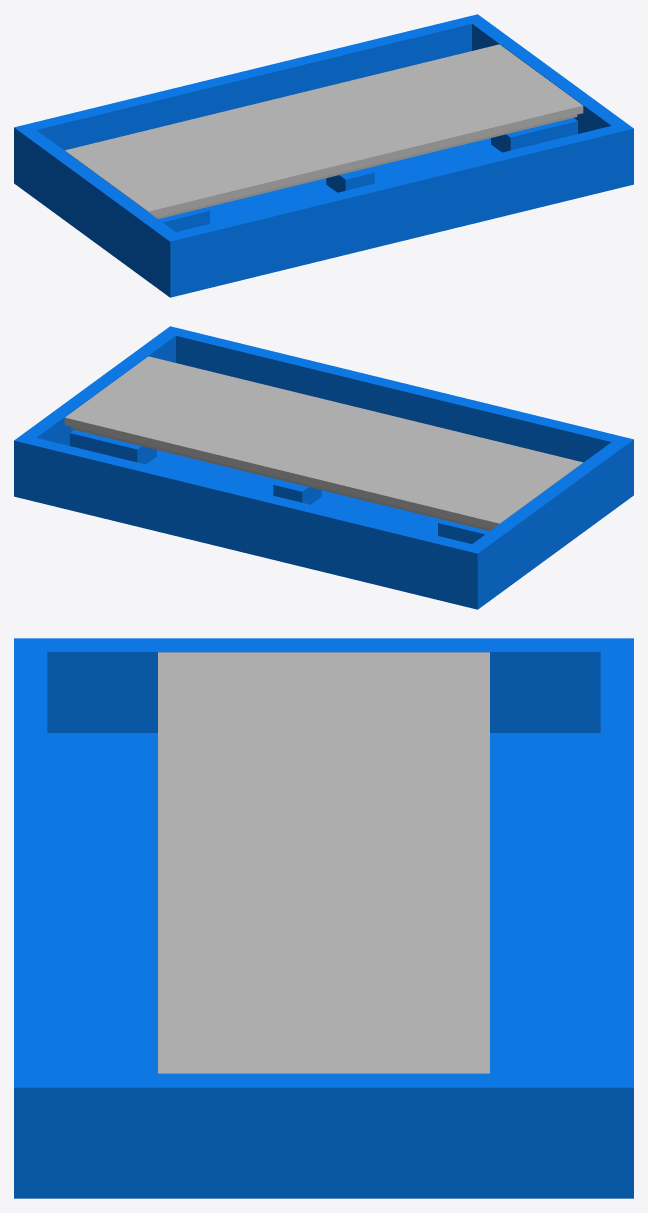
The model's file is mitica 3d 2013.fbx.
The picture shows the model from 3 angles, top to bottom: view 1: azimuth 30°, elevation 25°; view 2: azimuth 150°, elevation 25°; view 3: azimuth 270°, elevation 25°; orthographic projection. The views are drawn at different scales.
Parts seen in each view (by area): view 1: 3D Solid (×6); view 2: 3D Solid (×6); view 3: 3D Solid (×3).
Part boxes in pixels (<box>): 3D Solid (×6): <box>14,14,633,297</box>; 3D Solid (×6): <box>14,326,633,609</box>; 3D Solid (×3): <box>14,638,633,1198</box>.
Size of the model in its own units: 960 by 560 by 111.
